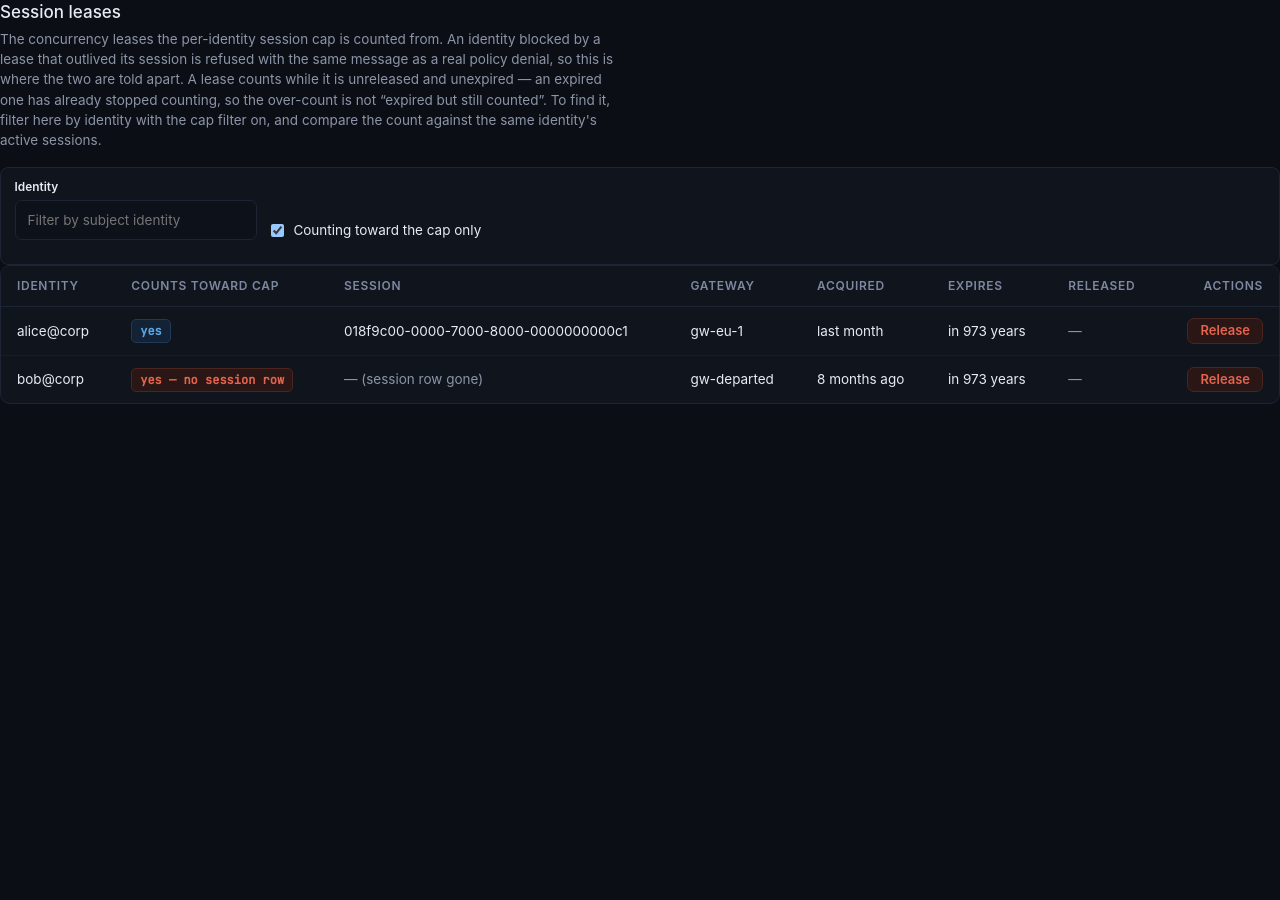
SessionLeaseList › warns that releasing a live lease grants capacity over the cap
Click the button "Release" in the row of "alice@corp" at (1225, 331), box [1188,318,1263,344]
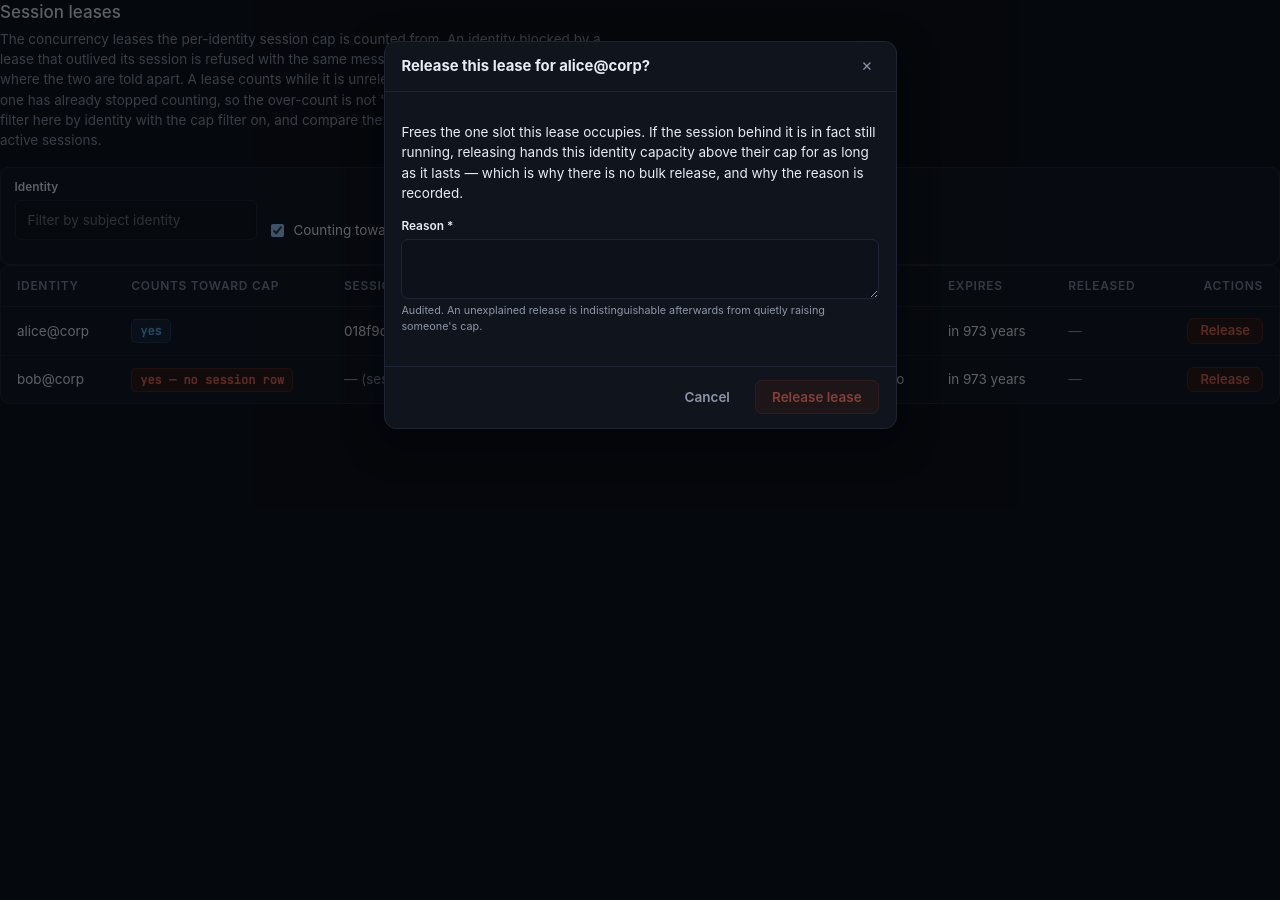
expect the text "no bulk release" is shown: met, box [401,124,876,201]
